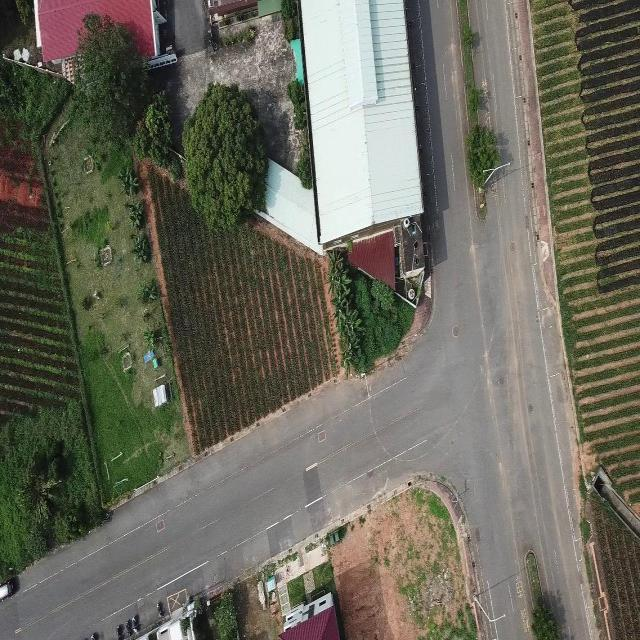car: (0, 575, 17, 602)
